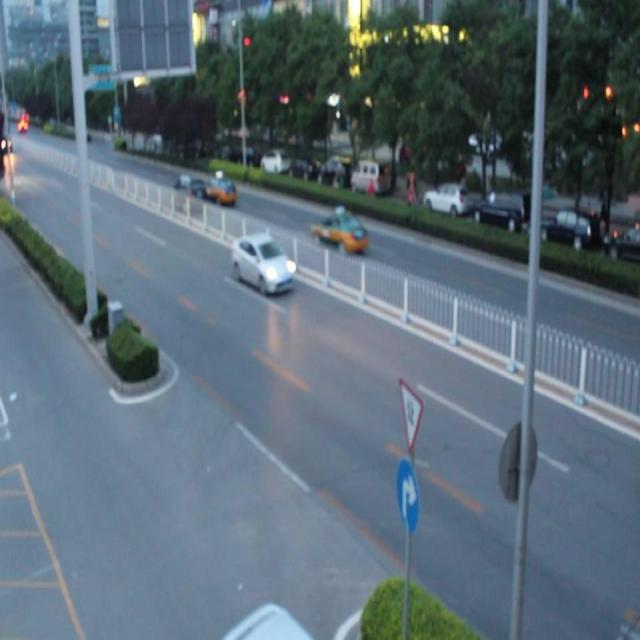car: (232, 236, 295, 294), (312, 210, 369, 252), (170, 179, 206, 211), (202, 173, 237, 204)
